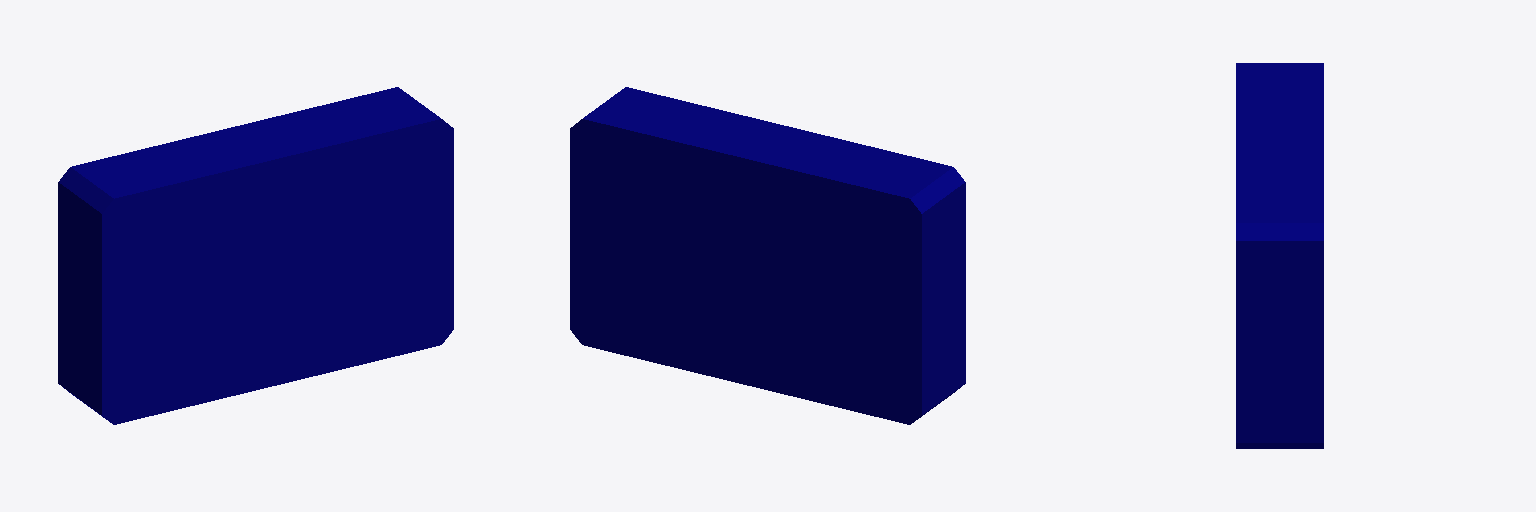
The model's file is RDC3.obj.
3 renders of one model, left to right at view 1: azimuth 30°, elevation 25°; view 2: azimuth 150°, elevation 25°; view 3: azimuth 270°, elevation 25°, orthographic.
Visible parts, largest first — view 1: RDC003; view 2: RDC003; view 3: RDC003.
Boxes of the visible parts, <box> form: RDC003: <box>58,87,453,424</box>; RDC003: <box>570,87,965,424</box>; RDC003: <box>1236,63,1323,448</box>.
Size of the model in its own units: 5.72 by 3.52 by 1.23.